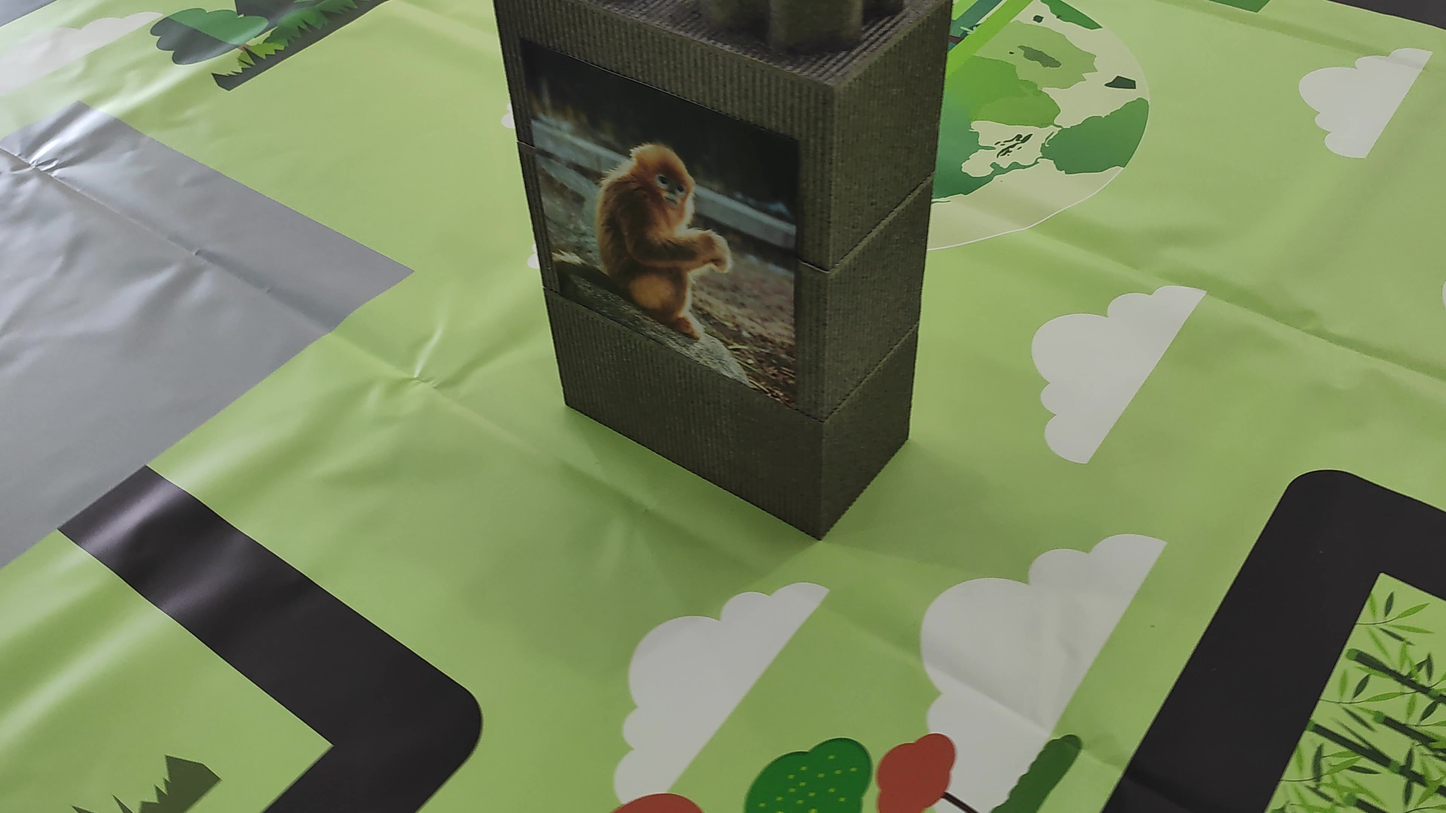monkey: (536, 108, 764, 347)
